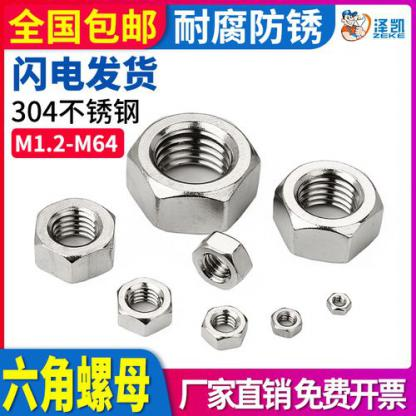FOD: (126, 118, 264, 236), (270, 155, 384, 263), (32, 195, 116, 288), (190, 226, 254, 290), (115, 275, 175, 338), (196, 304, 252, 352), (268, 304, 304, 340), (324, 289, 352, 318)
